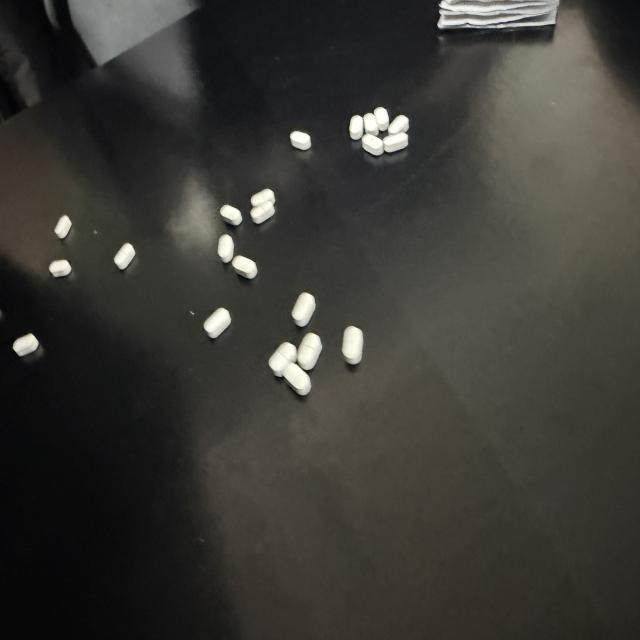pill: (269, 343, 297, 376), (283, 363, 311, 395), (298, 333, 322, 370), (204, 308, 231, 338), (342, 326, 363, 364), (292, 293, 315, 326), (114, 242, 136, 270), (232, 256, 257, 279), (13, 334, 39, 356), (251, 201, 274, 223), (383, 133, 408, 152), (218, 235, 234, 263), (362, 134, 383, 155), (220, 205, 242, 225), (388, 115, 409, 135), (251, 189, 275, 206), (290, 131, 311, 150), (49, 260, 71, 277), (55, 216, 71, 239), (374, 107, 389, 131), (350, 115, 363, 140), (364, 113, 378, 135)
